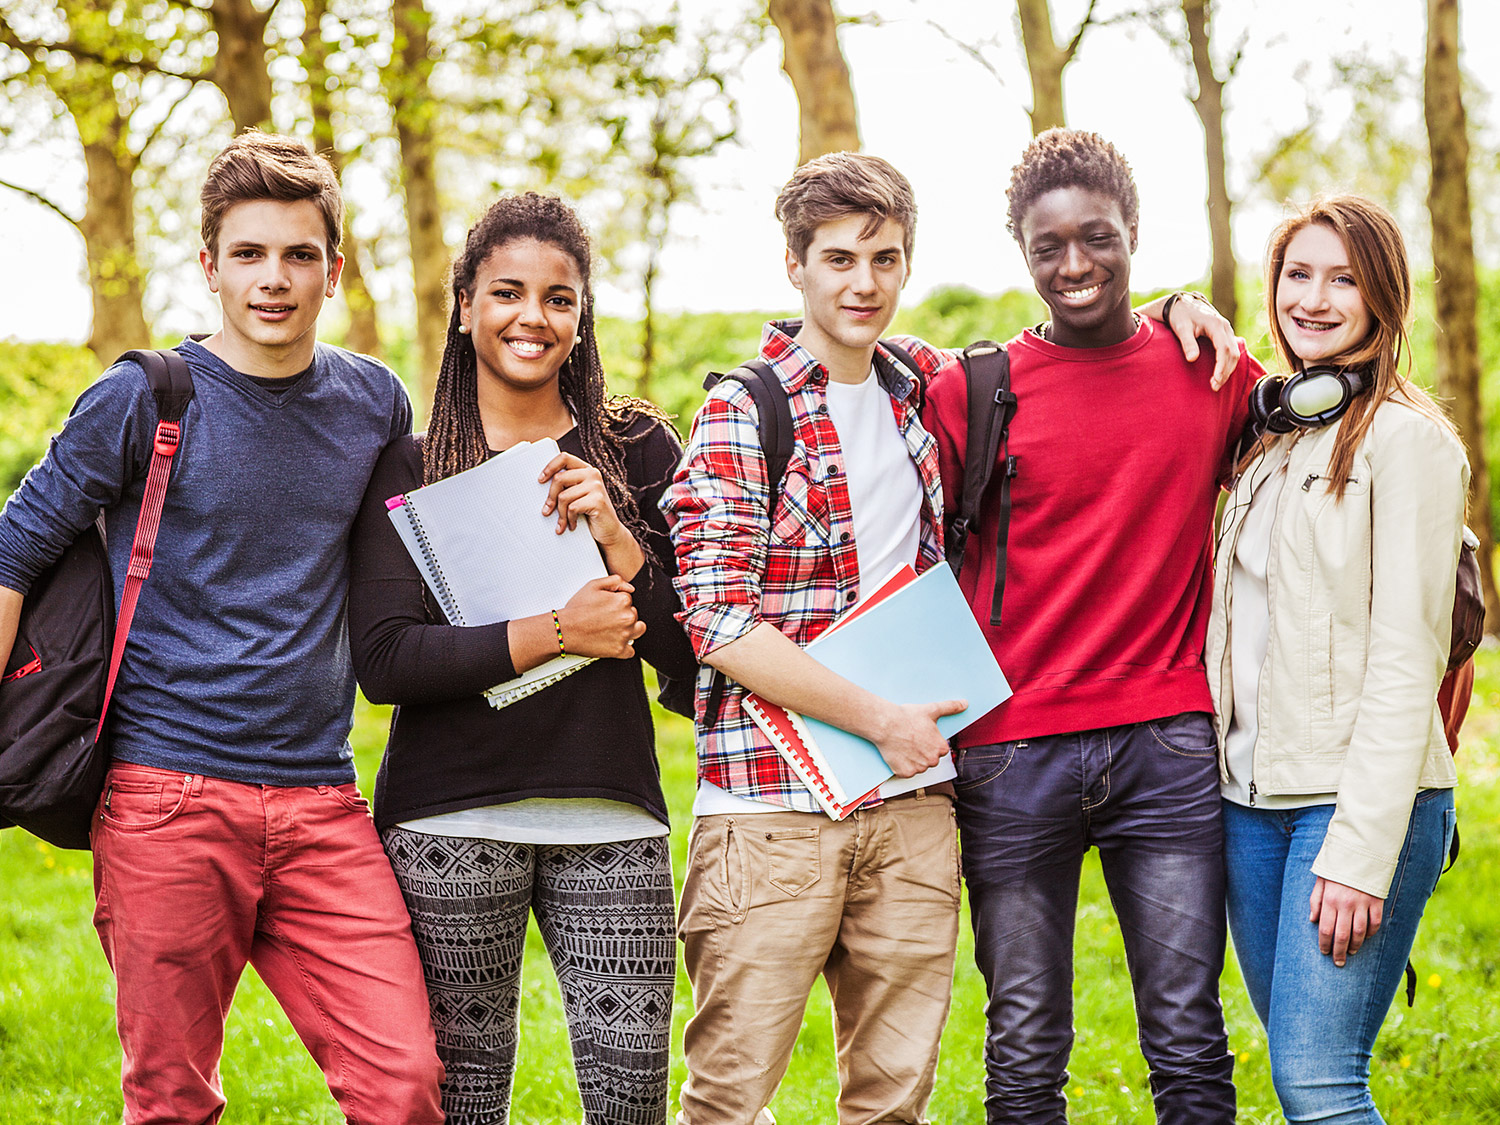bare: (214, 263, 333, 344), (464, 310, 581, 386), (795, 274, 914, 349), (1033, 255, 1135, 329), (1268, 293, 1371, 361)
